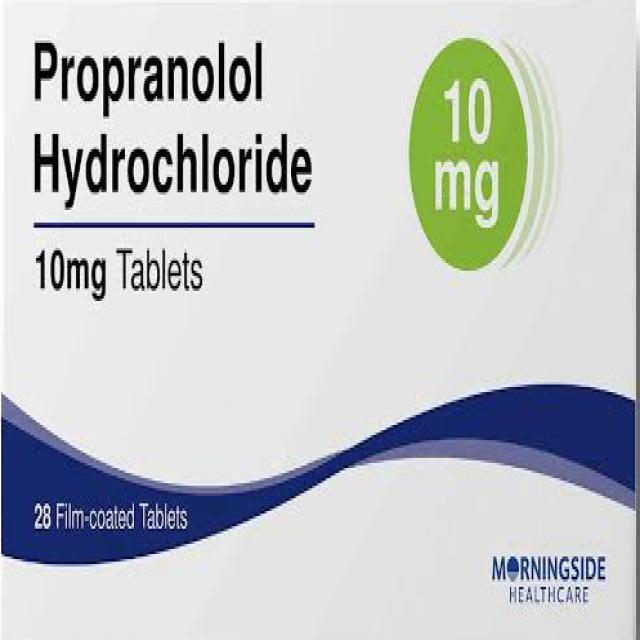drug-name: (29, 34, 318, 211)
